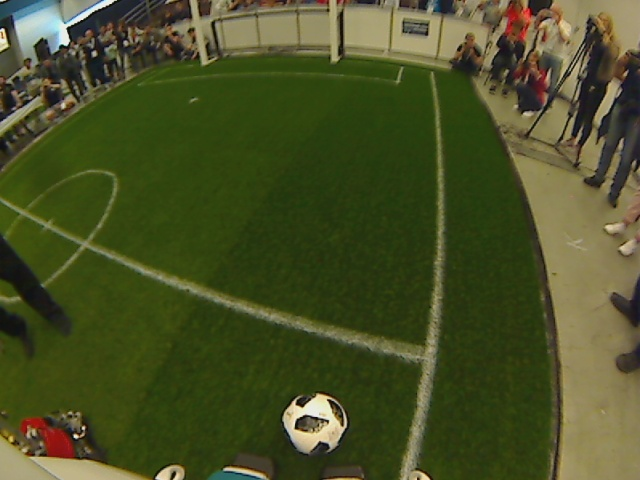ball: (281, 391, 348, 460)
